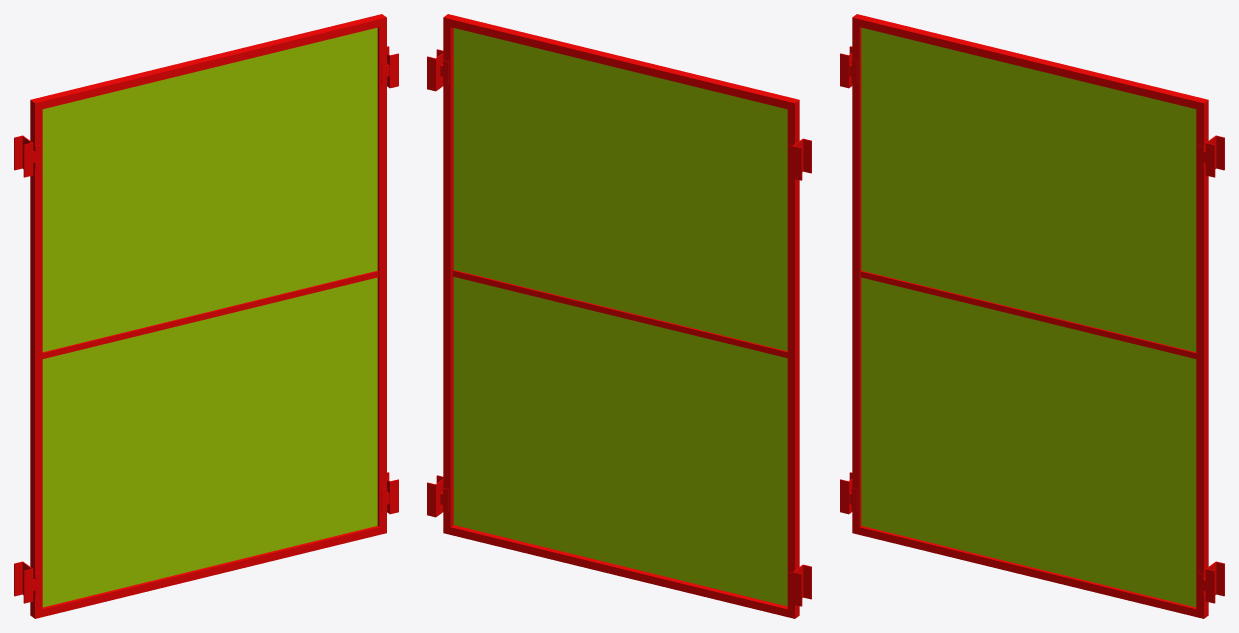
Rendered from FenceWide.fbx.
3 renders of one model, left to right at view 1: azimuth 30°, elevation 25°; view 2: azimuth 150°, elevation 25°; view 3: azimuth 330°, elevation 25°, orthographic.
Visible parts, largest first — view 1: Frame_low; view 2: Frame_low; view 3: Frame_low.
Part boxes in pixels (box(x1,y1,x2,y2)): Frame_low: box(14, 14, 398, 618); Frame_low: box(427, 14, 811, 618); Frame_low: box(840, 14, 1224, 618).
Bounding box in the file's own units: 145 × 191 × 6.98.
